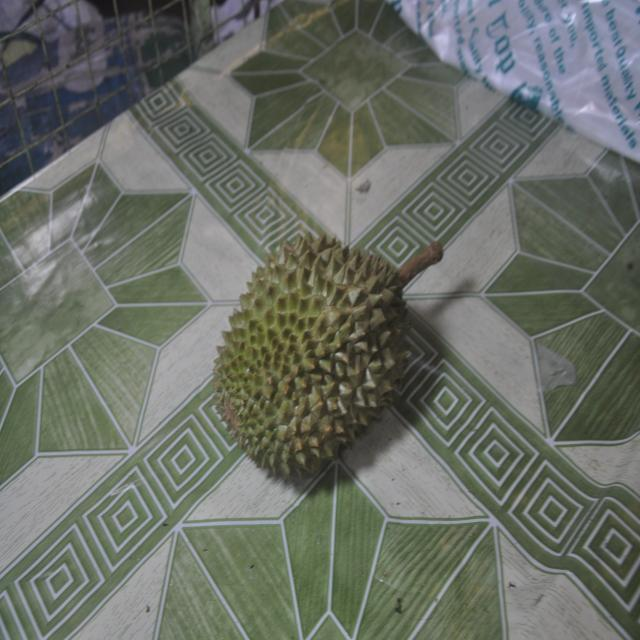mature: (213, 233, 442, 479)
